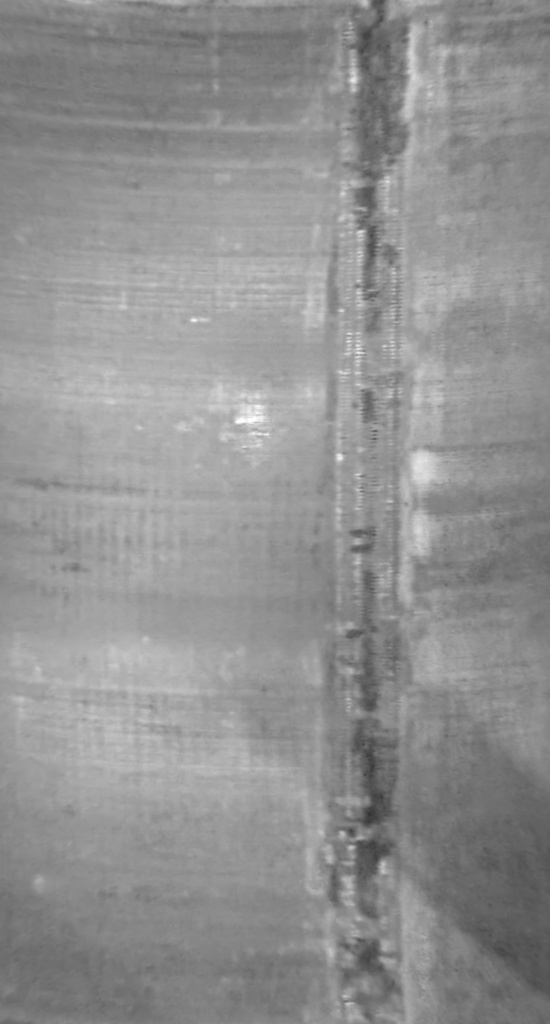splice: (319, 1, 416, 1024)
